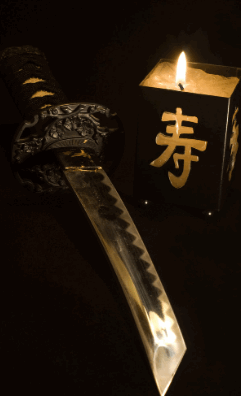Fire: (172, 44, 197, 87)
